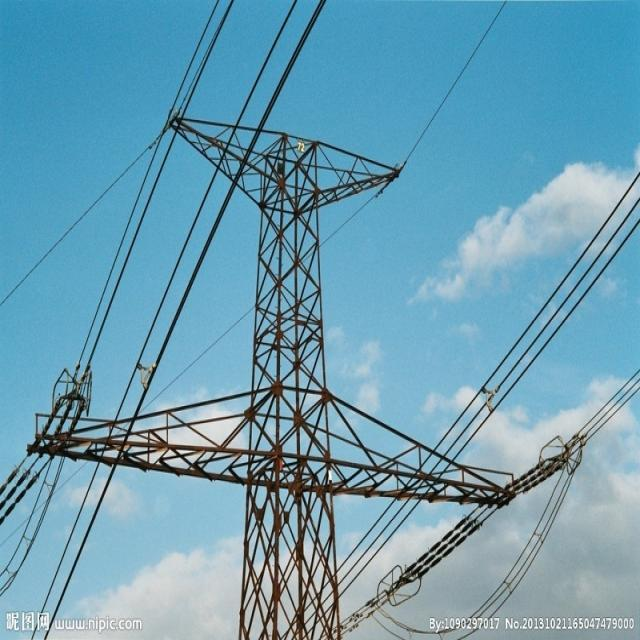non-critical vegetation: (44, 110, 512, 614)
